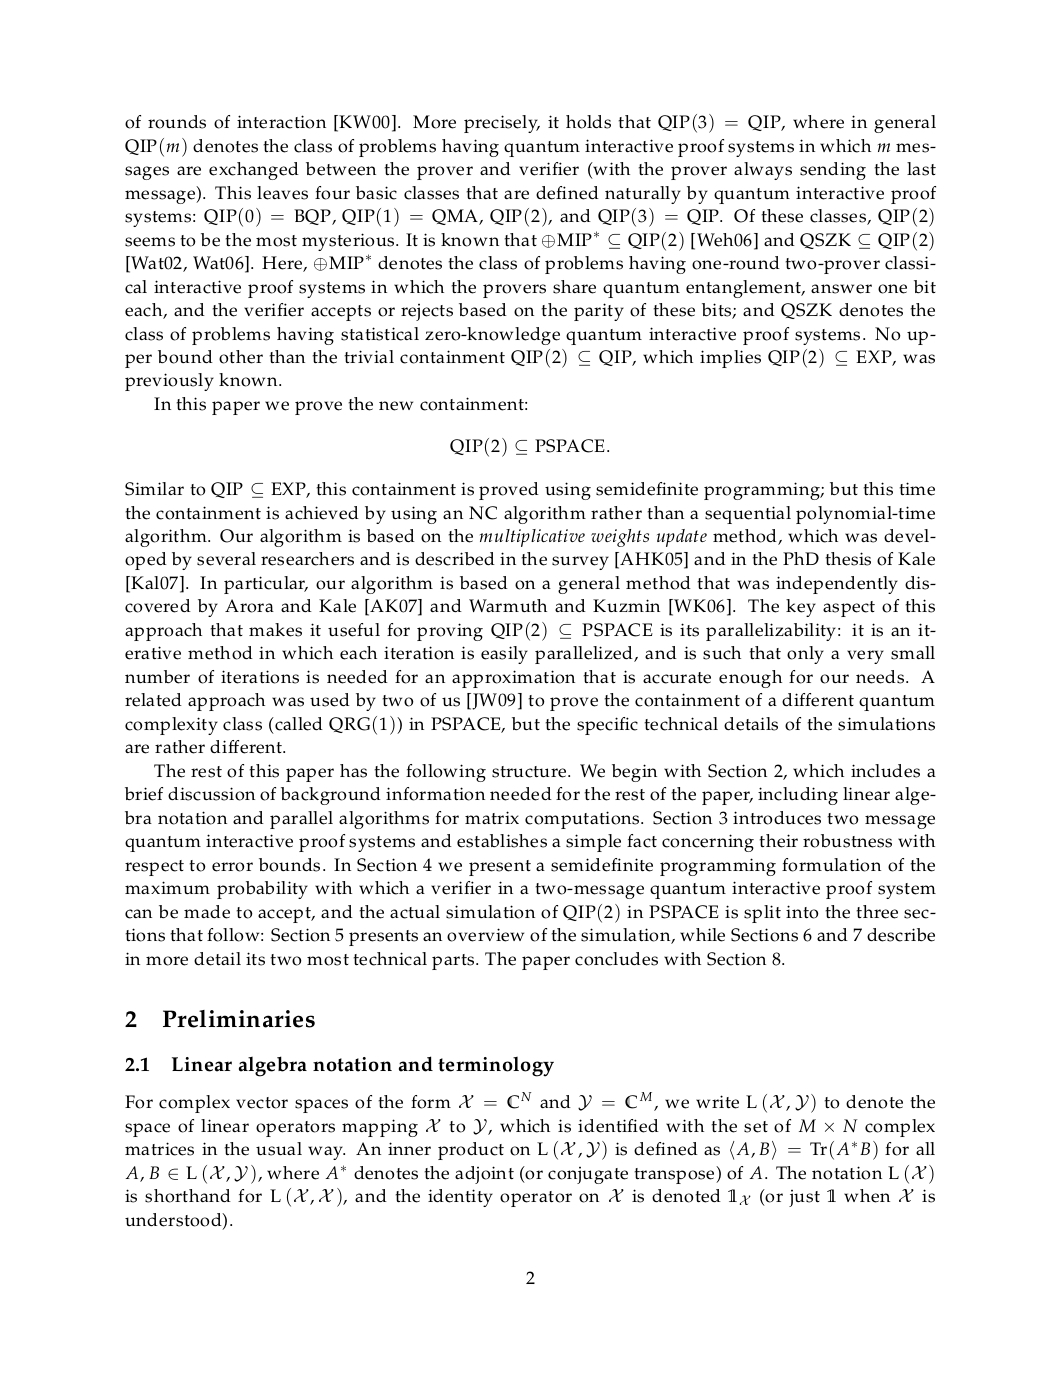formula: (450, 436, 609, 457)
